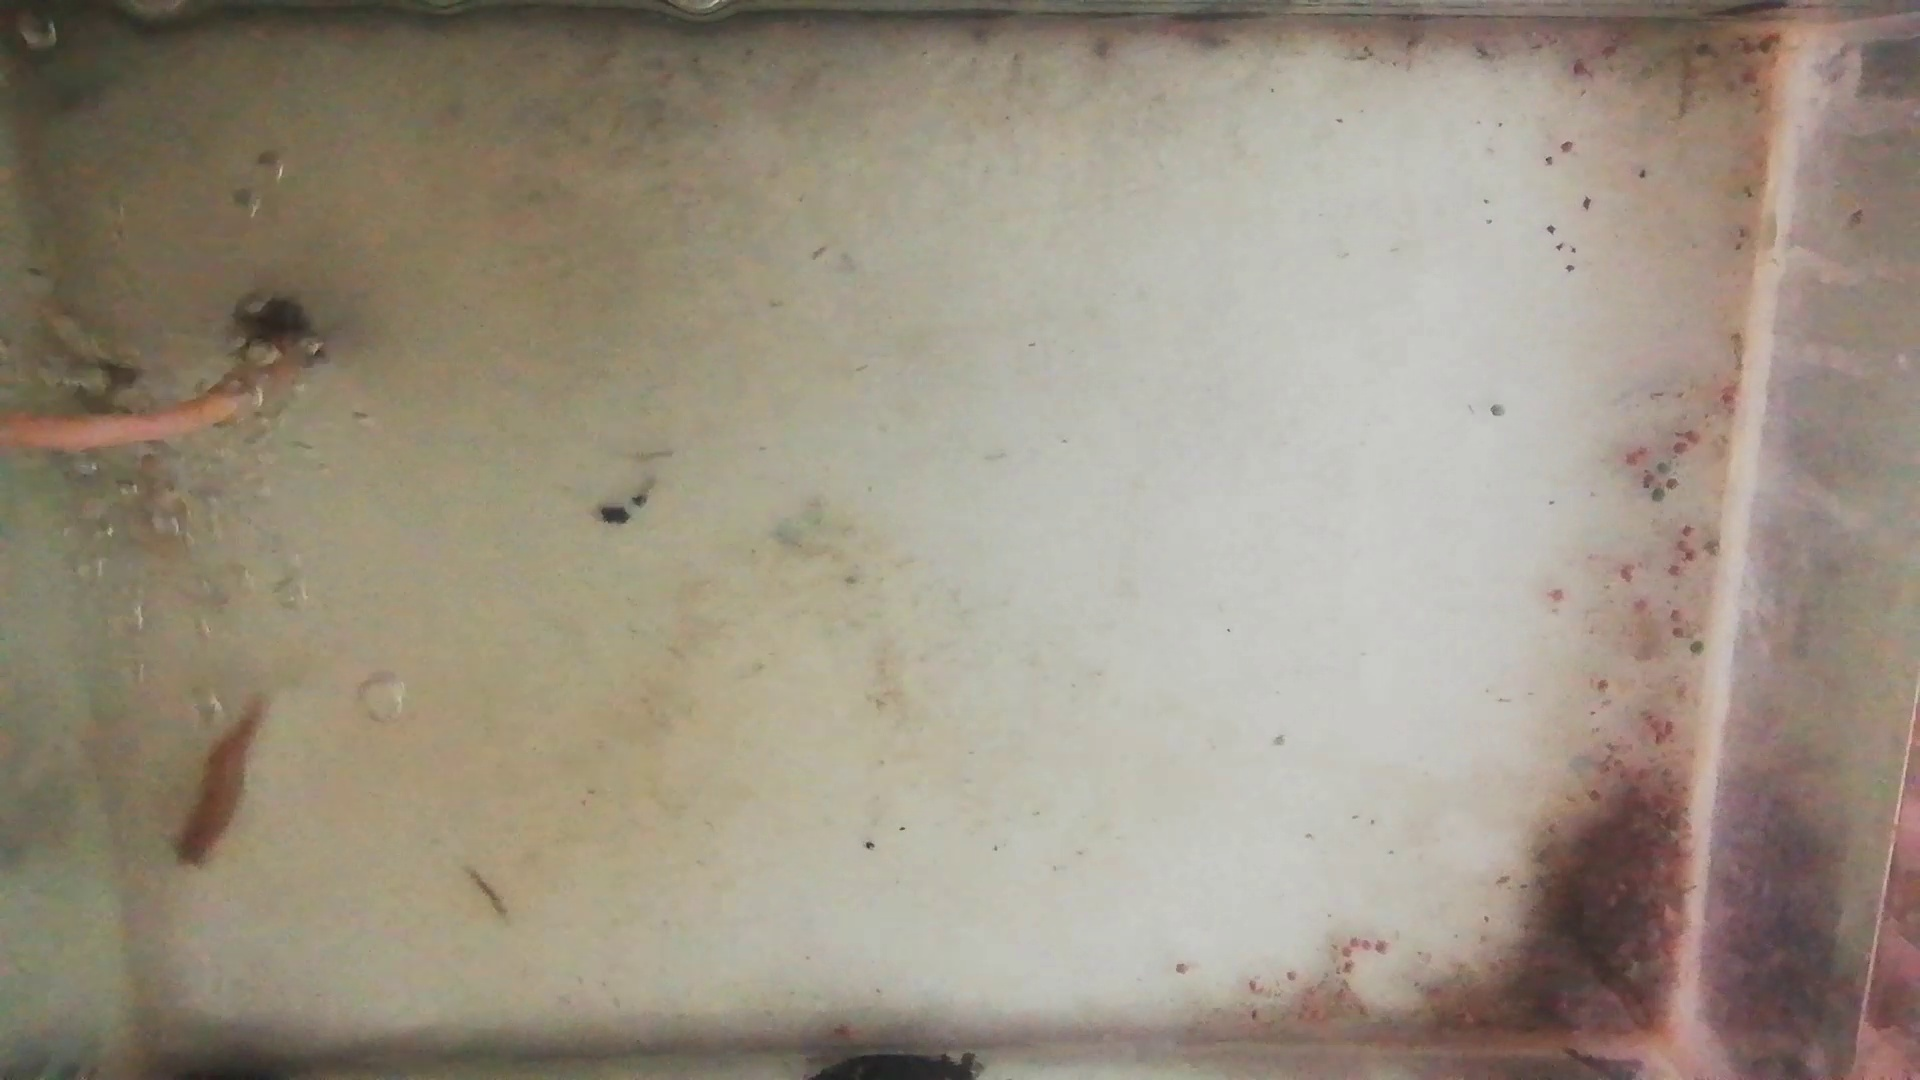fish: (169, 698, 264, 865), (37, 326, 144, 415)
